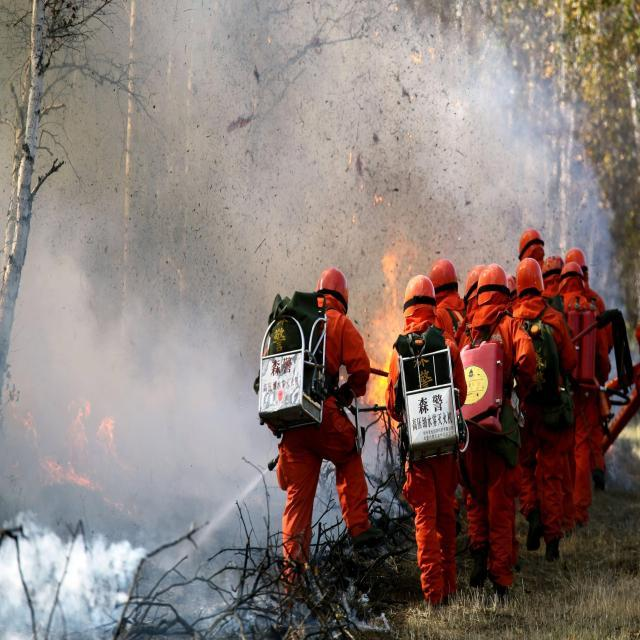Fire: (359, 240, 419, 446), (22, 398, 127, 514)
Smoke: (0, 0, 640, 640)
